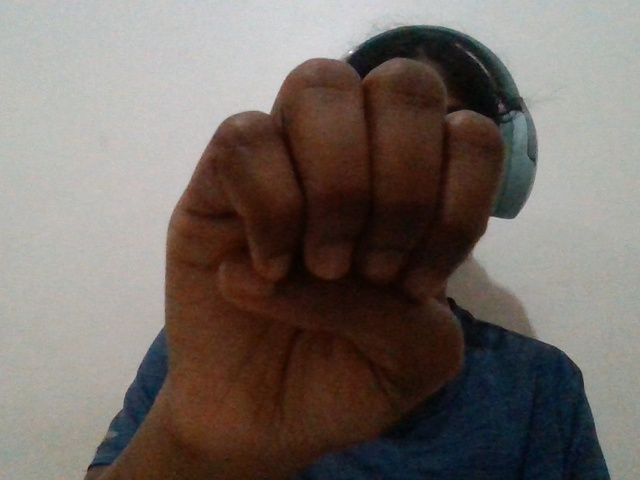E: (114, 36, 529, 464)
